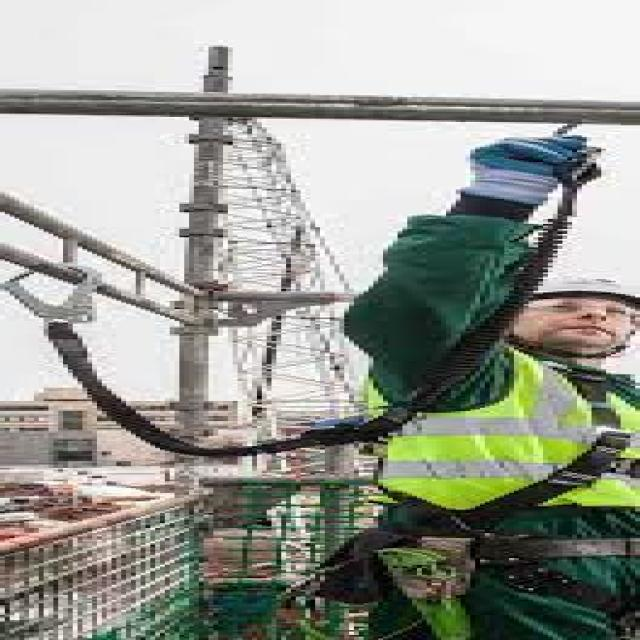harness: (5, 123, 600, 454)
